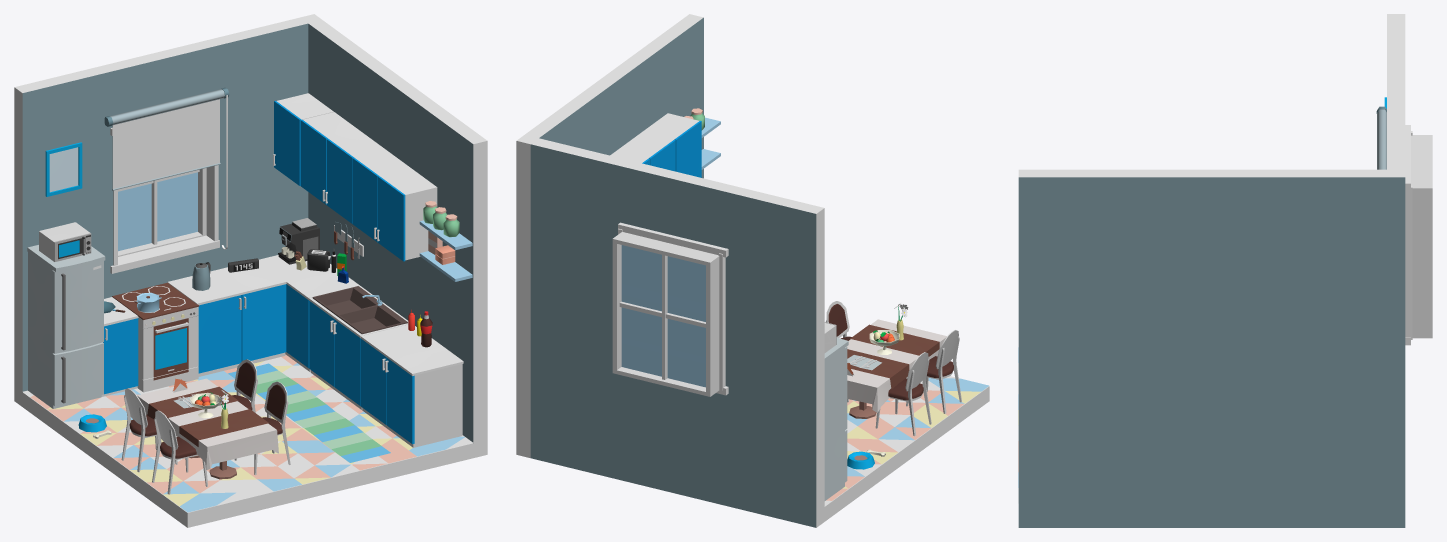
Rendered from room_5.glb.
3 renders of one model, left to right at view 1: azimuth 30°, elevation 25°; view 2: azimuth 150°, elevation 25°; view 3: azimuth 270°, elevation 25°, orthographic. The views are drawn at different scales.
Visible parts, largest first — view 1: Walls_116.003, Walls_116.002, Walls_116.005, carpet_019.001, kitchen_item_040.001, kitchen_item_020.001, kitchen_item_047.003, Curtains_023.001, kitchen_item_047.002, Walls_006.007, kitchen_item_041.001, kitchen_table_005.001 (+18 smaller); view 2: Walls_116.005, Walls_116.002, Walls_116.003, window_003.001, Walls_116.007, Walls_116.006, carpet_019.001, kitchen_table_005.001, kitchen_item_040.001, kitchen_item_020.001, Walls_006.007, kitchen_chair_028.001 (+4 smaller); view 3: Walls_116.003, window_003.001, Walls_005.046, Walls_116.006, Walls_116.002, Walls_116.005, Curtains_023.001.
Part boxes in pixels (left/top/right/bottom): Walls_116.003: left=300, top=14, right=487, bottom=457; Walls_116.002: left=206, top=17, right=308, bottom=270; Walls_116.005: left=14, top=64, right=116, bottom=406; carpet_019.001: left=23, top=354, right=473, bottom=512; kitchen_item_040.001: left=300, top=112, right=437, bottom=261; kitchen_item_020.001: left=27, top=245, right=105, bottom=408; kitchen_item_047.003: left=360, top=324, right=463, bottom=447; Curtains_023.001: left=104, top=87, right=229, bottom=249; kitchen_item_047.002: left=167, top=262, right=286, bottom=376; Walls_006.007: left=22, top=392, right=473, bottom=527; kitchen_item_041.001: left=308, top=285, right=408, bottom=409; kitchen_table_005.001: left=137, top=378, right=278, bottom=479; Walls_116.005: left=722, top=185, right=824, bottom=527; Walls_116.002: left=530, top=138, right=632, bottom=481; Walls_116.003: left=516, top=14, right=703, bottom=457; window_003.001: left=612, top=232, right=719, bottom=396; Walls_116.007: left=625, top=376, right=721, bottom=504; Walls_116.006: left=625, top=161, right=729, bottom=247; carpet_019.001: left=824, top=376, right=988, bottom=505; kitchen_table_005.001: left=847, top=319, right=946, bottom=418; kitchen_item_040.001: left=610, top=113, right=701, bottom=177; kitchen_item_020.001: left=824, top=337, right=848, bottom=500; Walls_006.007: left=824, top=386, right=989, bottom=521; kitchen_chair_028.001: left=875, top=352, right=931, bottom=435; Walls_116.003: left=1018, top=169, right=1405, bottom=527; window_003.001: left=1411, top=135, right=1432, bottom=338; Walls_005.046: left=1405, top=185, right=1412, bottom=339; Walls_116.006: left=1387, top=65, right=1405, bottom=118; Walls_116.002: left=1387, top=118, right=1405, bottom=169; Walls_116.005: left=1387, top=14, right=1405, bottom=65; Curtains_023.001: left=1376, top=106, right=1386, bottom=169.
Bounding box in the file's own units: 4.2 × 4.2 × 4.5.
1 material, 1 textured.
